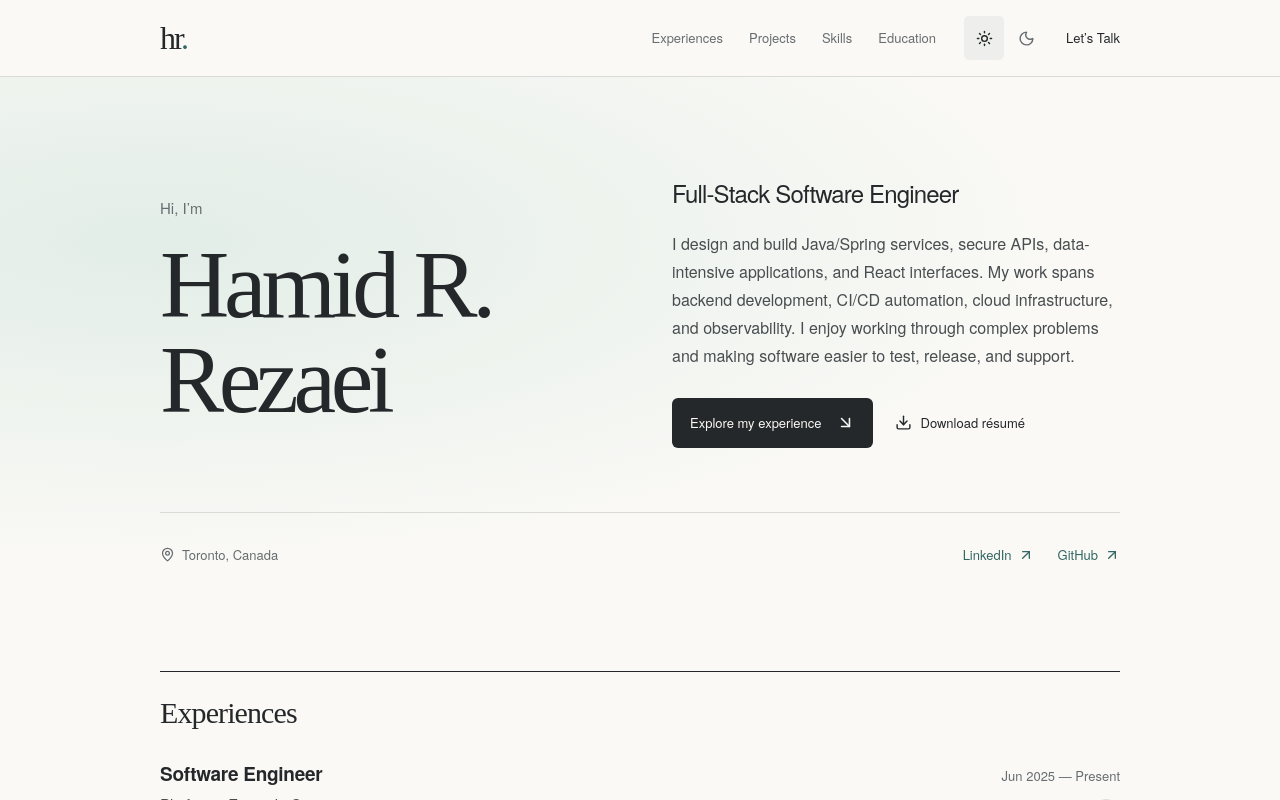
it: resume sections › keeps project stages and links visible while career details start collapsed
Expected: the text "Built an API for a sample service." is not shown
Expected: the text "Improved the sample delivery workflow." is not shown
Click the button "Software Engineer". click: (241, 774)
box: [160,761,322,788]
(page scrolled)
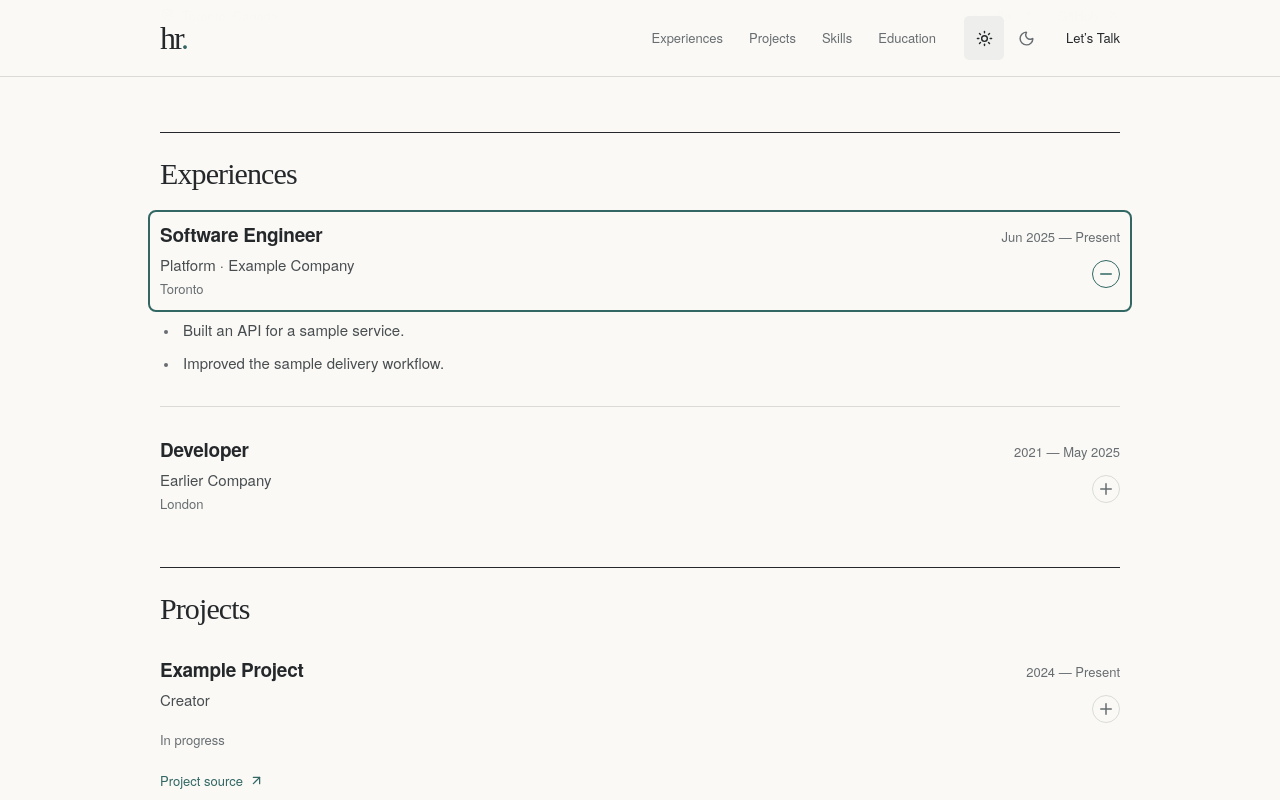
Expected: the text "Maintained a sample application." is not shown
Expected: the list item "Built an API for a sample service." is shown, [183,319,404,340]
Expected: the list item "Improved the sample delivery workflow." is shown, [183,352,444,374]
Click the button "Developer". click: (204, 450)
box: [160,437,249,464]
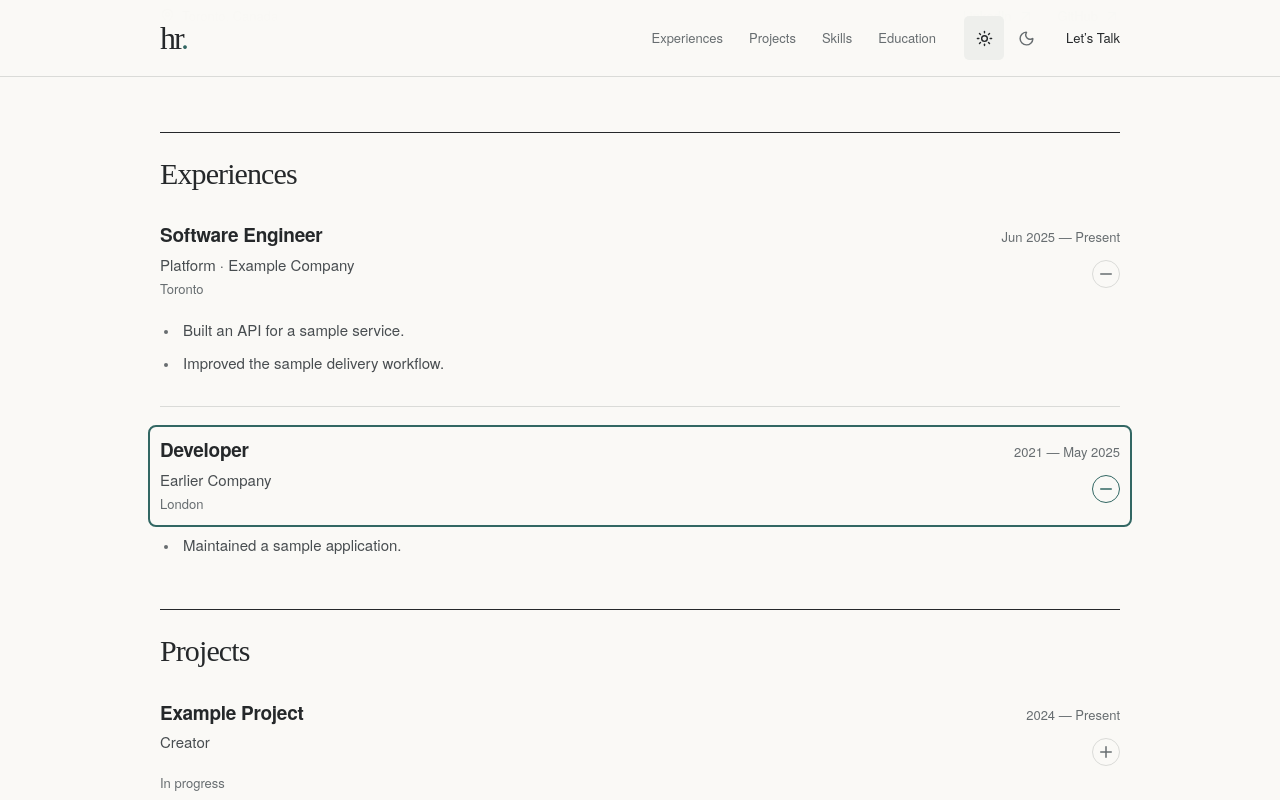
Expected: the text "Designed a sample project." is not shown
Expected: the list item "Maintained a sample application." is shown, [183,534,402,555]
Click the button "Example Project". click: (232, 713)
box: [160,700,304,726]
(page scrolled)
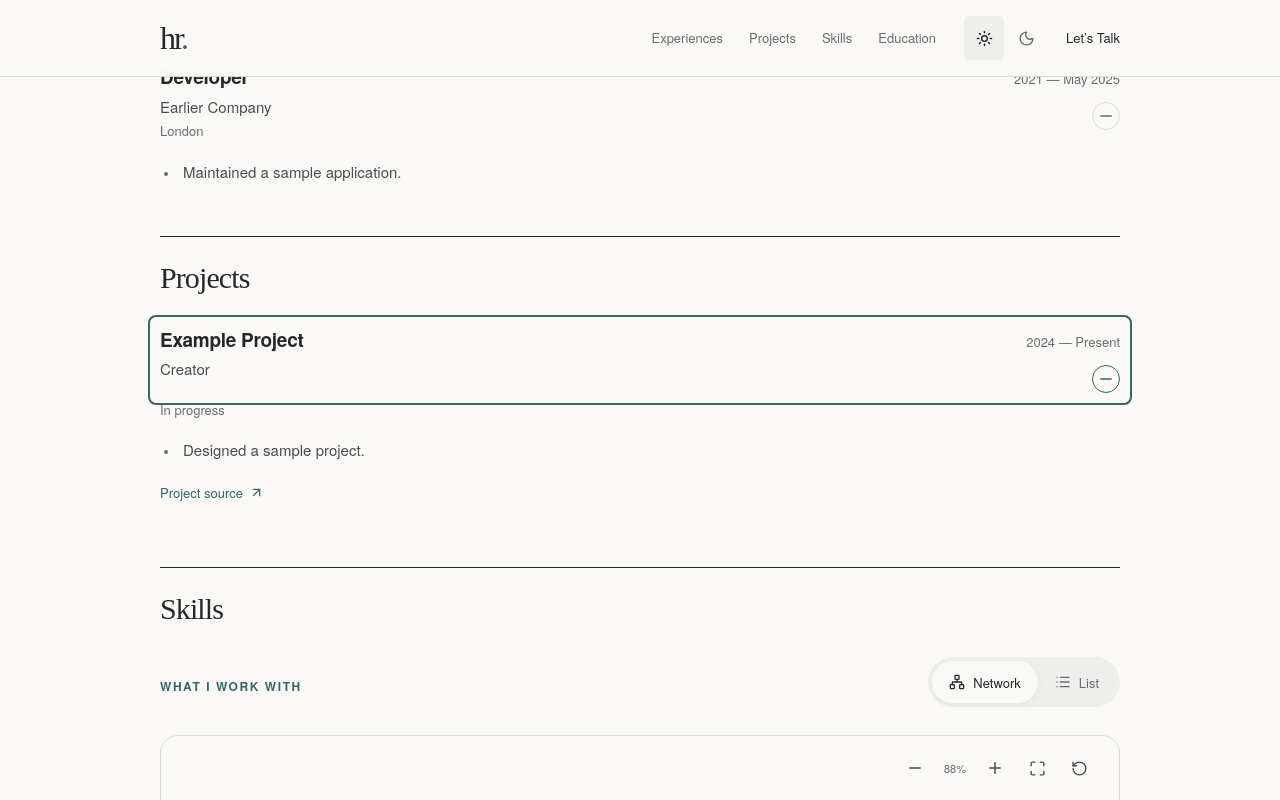
Expected: the list item "Designed a sample project." is shown, [183,440,365,460]
